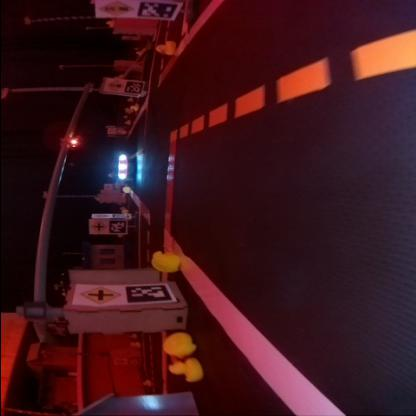Duckie: (166, 358, 202, 382), (161, 333, 194, 355), (148, 250, 180, 271), (154, 41, 175, 55), (130, 105, 136, 109)
Duckiebot: (112, 152, 132, 180)
Intersection sign: (76, 285, 122, 305), (89, 220, 103, 232)
QR code: (123, 283, 173, 303), (135, 2, 177, 18), (125, 79, 142, 93), (108, 219, 124, 232), (110, 213, 128, 219)
Signal sign: (96, 0, 132, 16), (103, 79, 121, 91)
Traffic light: (61, 136, 80, 148)
